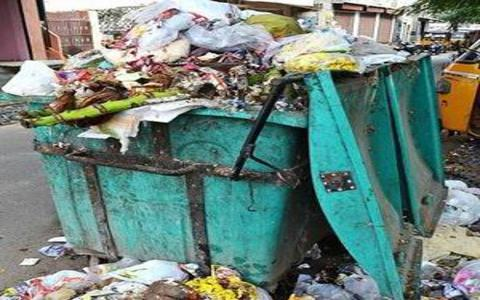overflowing garbage: (1, 1, 447, 296)
